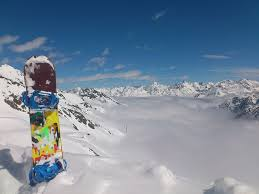snowboard: (23, 54, 67, 186)
